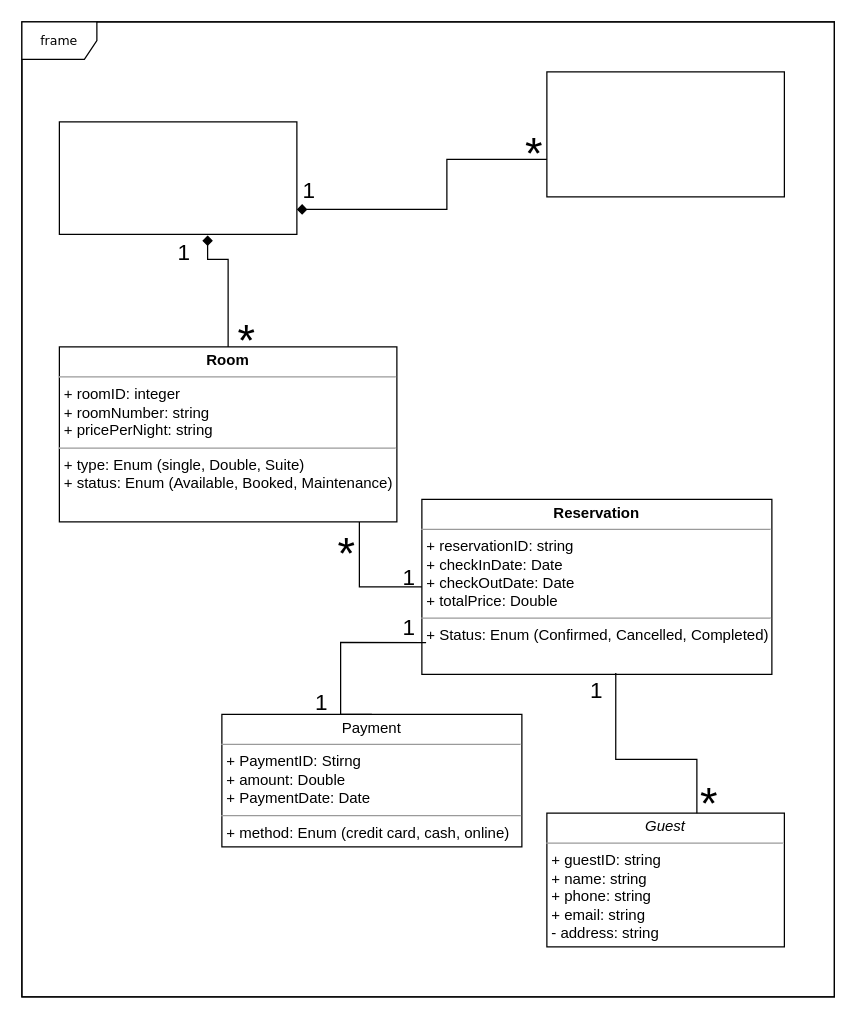
Some shapes in this 856 by 1019 pixel diagram are drawn without their labels. Each missing label, with the centre of its shape:
Hotel + name : string + address : string + phone : string + email : string: (x=177, y=177)
Staff + staffID : int + name : string + phone : string + role : string: (x=665, y=134)
